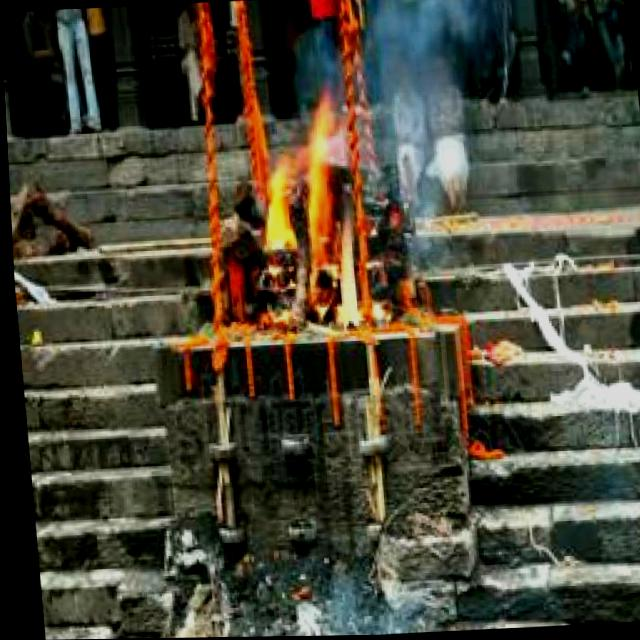Fire: (250, 115, 361, 330)
